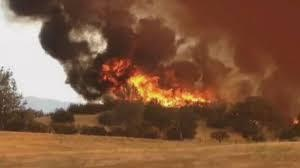fire: (102, 57, 214, 106)
